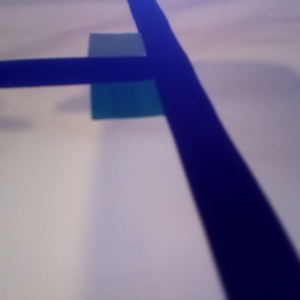bottom_left: (90, 57, 187, 119)
top_left: (87, 32, 172, 77)
